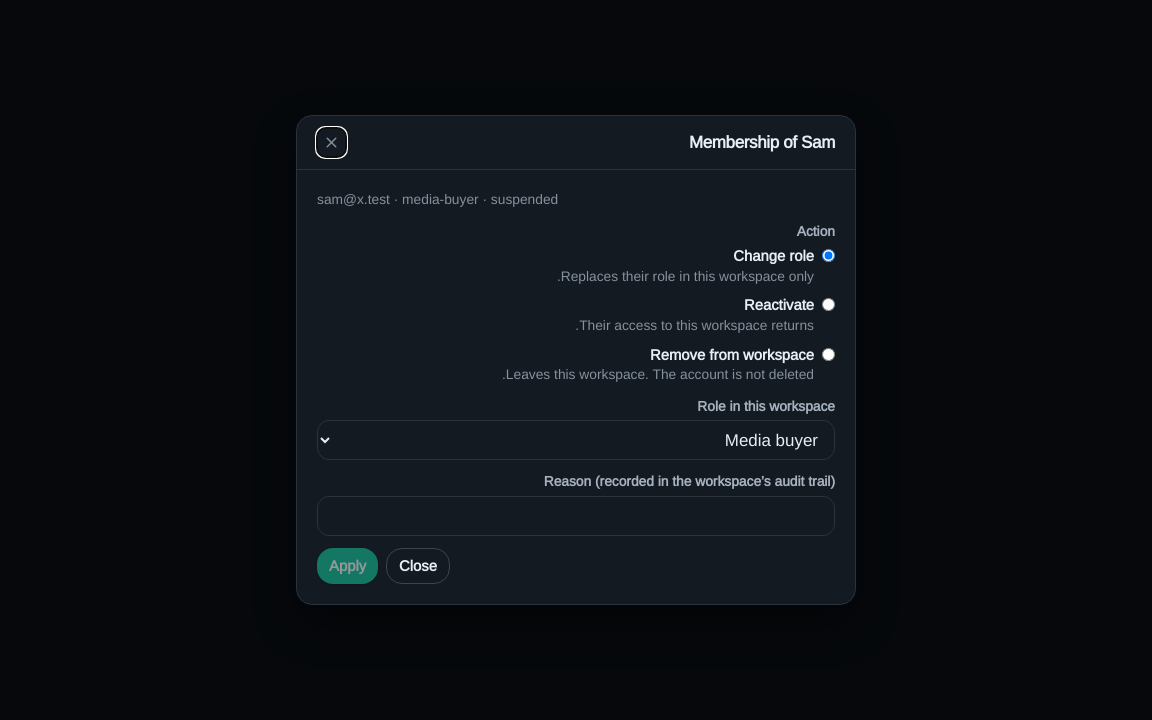
Test: MembershipDialog › offers reactivate for a suspended membership, and shows the last-owner refusal
This screenshot has width=1152, height=720.
Expected: the radio button with test id "membership-action-reactivate" is shown, 822,298 -> 835,311
Click the radio button with test id "membership-action-remove" at (828, 354), box 822,348 -> 835,361
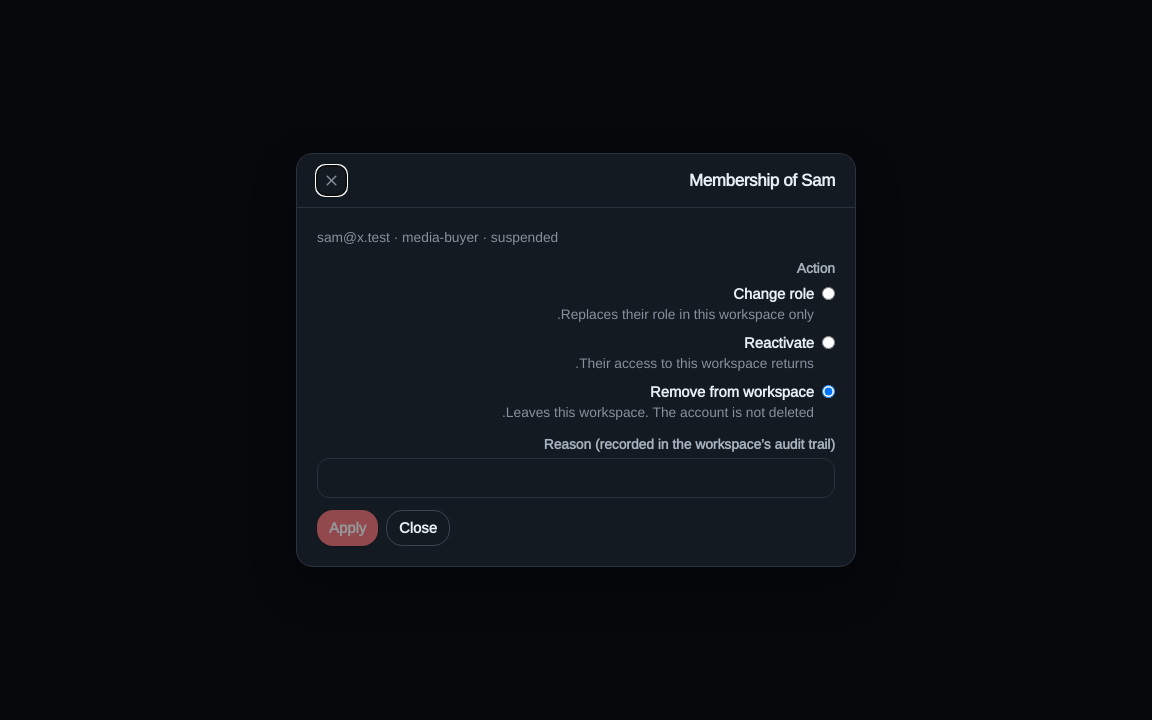
Type "Left the agency" into the field with test id "membership-reason" at (576, 478), box 317,458 -> 835,498
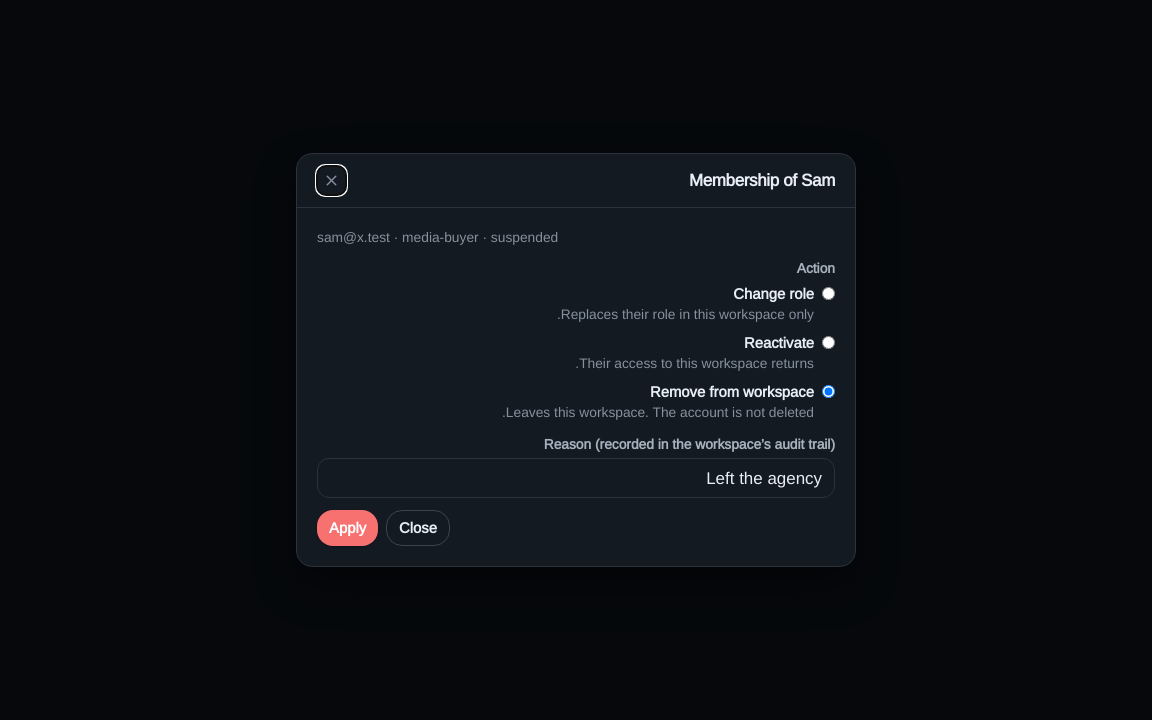
Click the button with test id "membership-submit" at (348, 528), box 317,510 -> 378,546
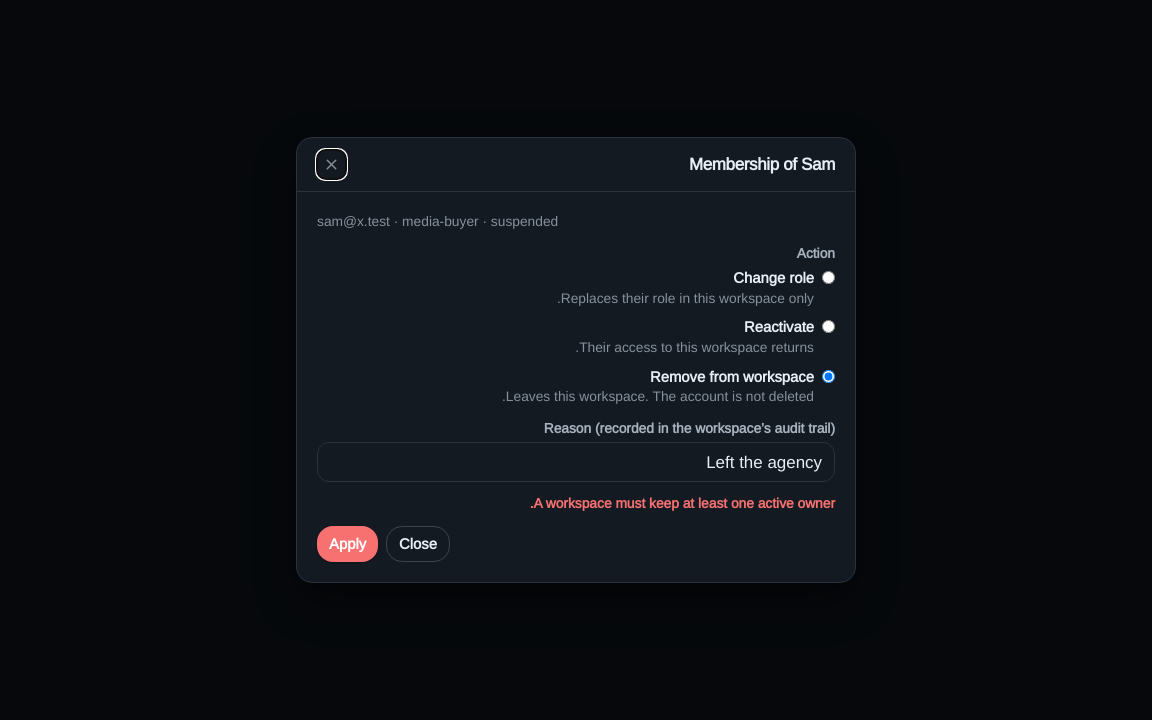
Expected: the text with test id "membership-error" shows "active owner", 530,495 -> 835,511
